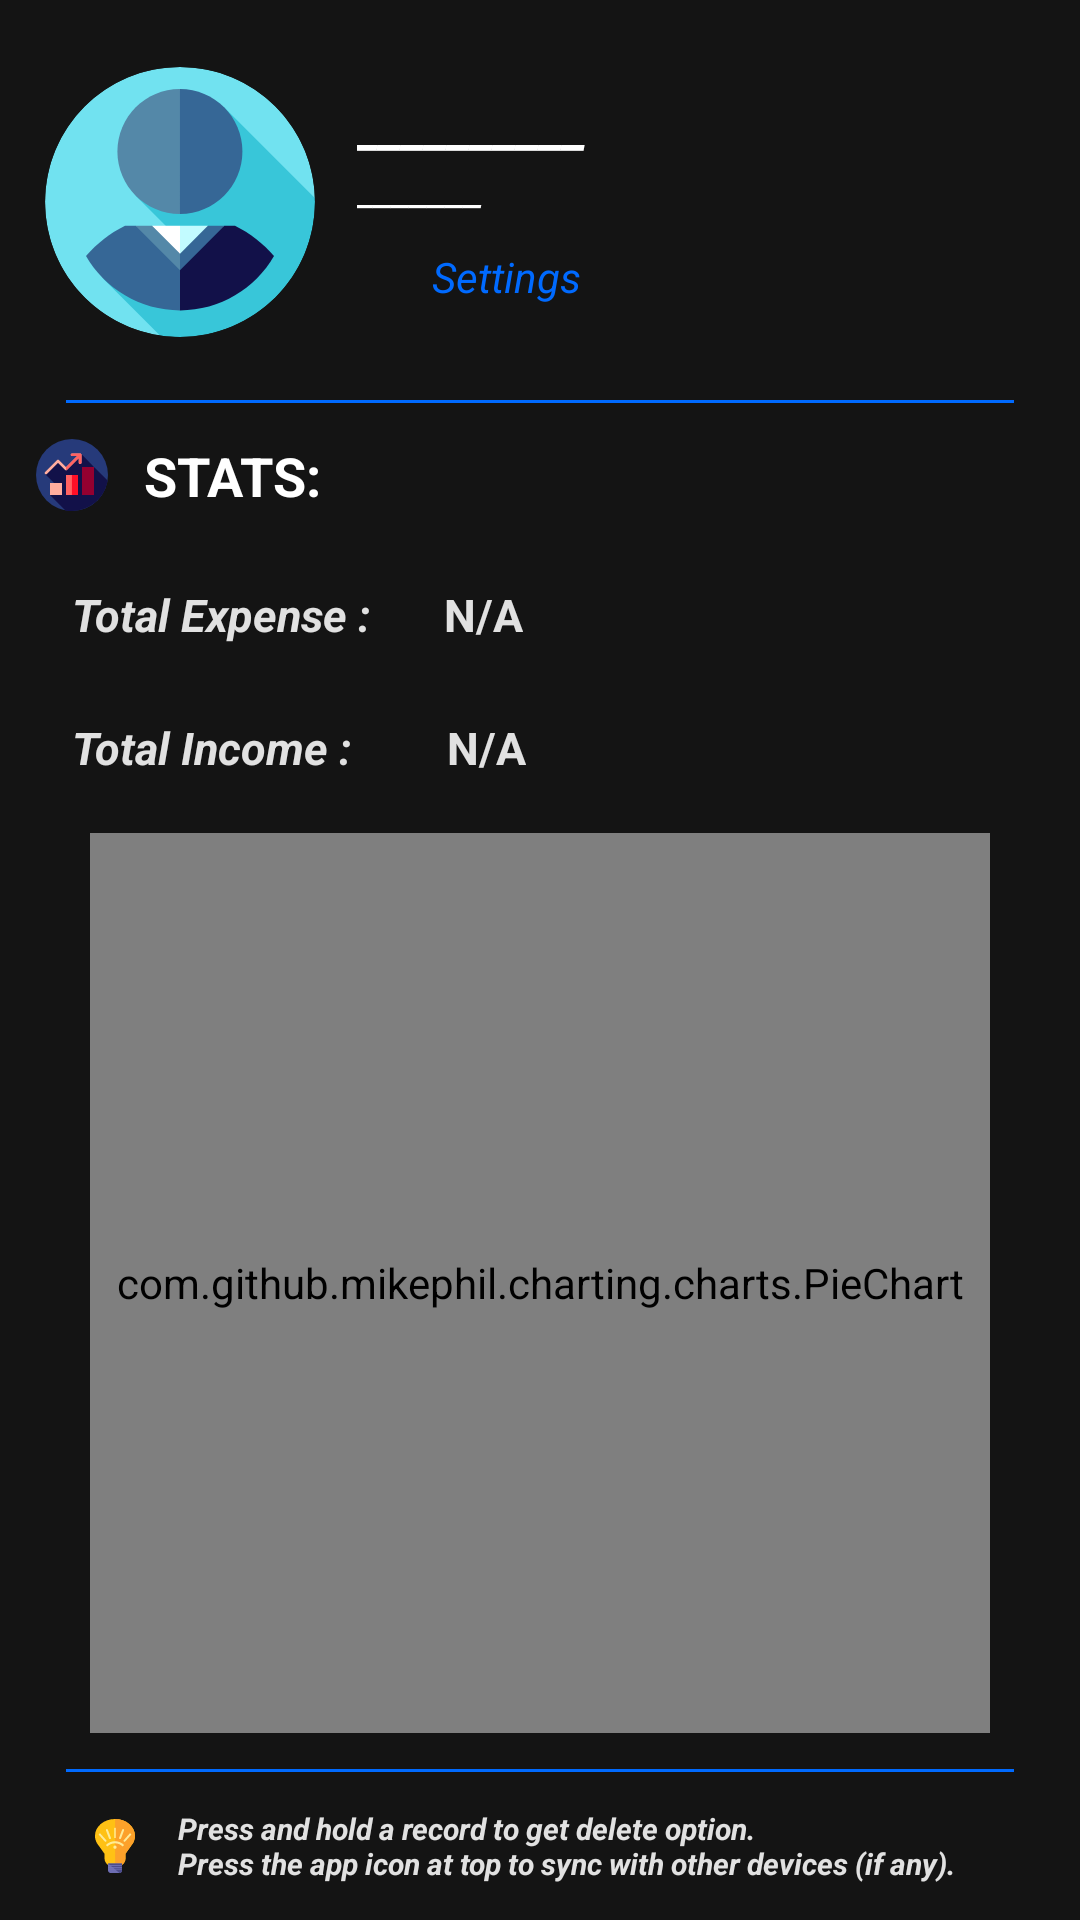

Icons on this 1080*1920 Android screen, each with the point to tap as (x,y):
tip: (115,1846)
user colorful: (180,202)
